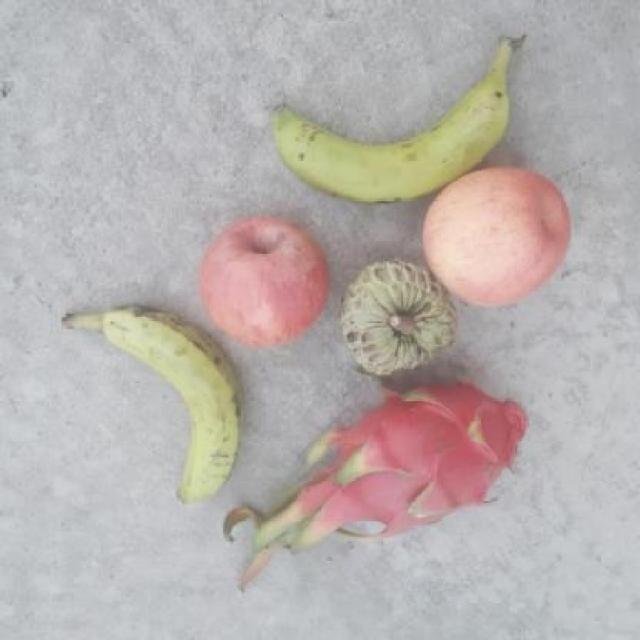apple: (425, 167, 580, 311), (197, 213, 328, 349)
banana: (55, 301, 244, 508), (264, 68, 514, 203)
dragon fruit: (330, 377, 528, 534)
sugar apple: (331, 260, 458, 378)
